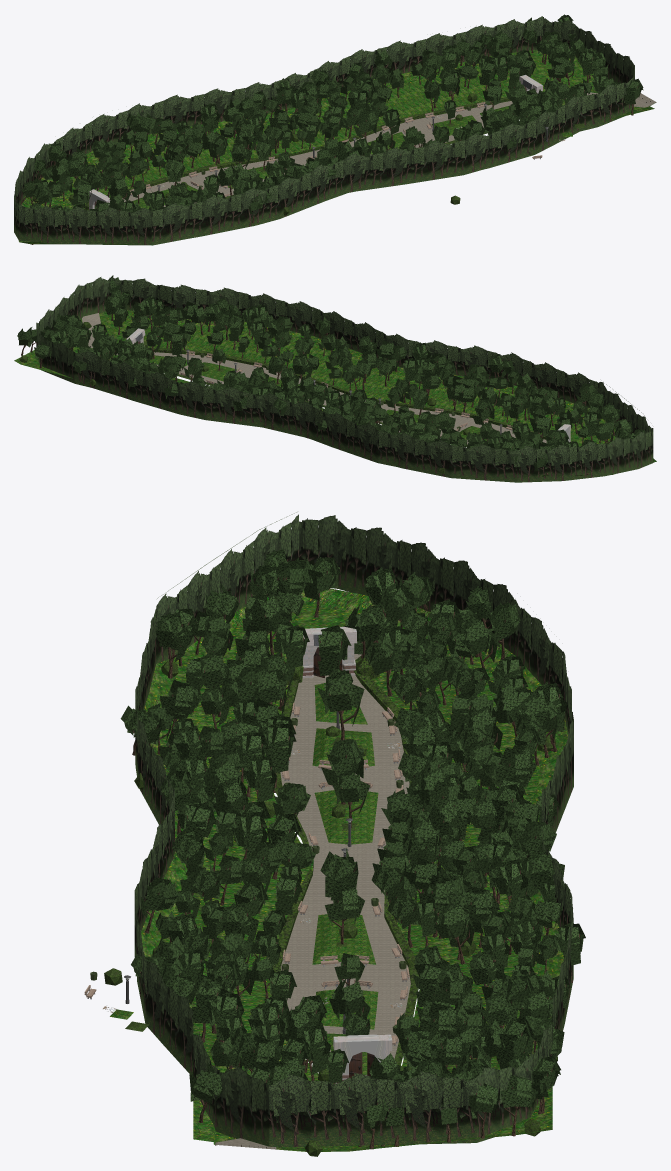
The model's file is park.fbx.
3 views of the same model, one above another, from view 1: azimuth 30°, elevation 25°; view 2: azimuth 150°, elevation 25°; view 3: azimuth 270°, elevation 25° (orthographic). The views are drawn at different scales.
Visible parts, largest first — view 1: Plane.437, Plane.147, Plane.081, Plane; view 2: Plane.437, Plane.147, Plane.081, Plane; view 3: Plane.437, Plane.147, Plane, Plane.081, Cube.002, Cube.003.
Part boxes in pixels (x1,y1,x2,y2): Plane.437: [20, 14, 643, 244]; Plane.147: [14, 16, 634, 245]; Plane.081: [18, 50, 656, 244]; Plane: [86, 97, 512, 210]; Plane.437: [17, 275, 645, 475]; Plane.147: [36, 277, 653, 482]; Plane.081: [14, 310, 656, 476]; Plane: [147, 347, 546, 446]; Plane.437: [120, 549, 585, 1156]; Plane.147: [134, 512, 573, 1147]; Plane: [273, 654, 419, 1075]; Plane.081: [141, 587, 568, 1151]; Cube.002: [333, 1034, 392, 1083]; Cube.003: [302, 626, 357, 678].
Bounding box in the file's own units: 14039 × 1289 × 5182.
41 materials, 41 textured.
